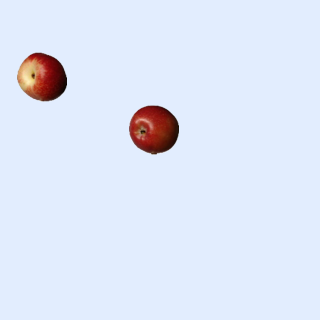Apple Braeburn: (128, 104, 178, 154)
Nectarine: (16, 51, 66, 101)
